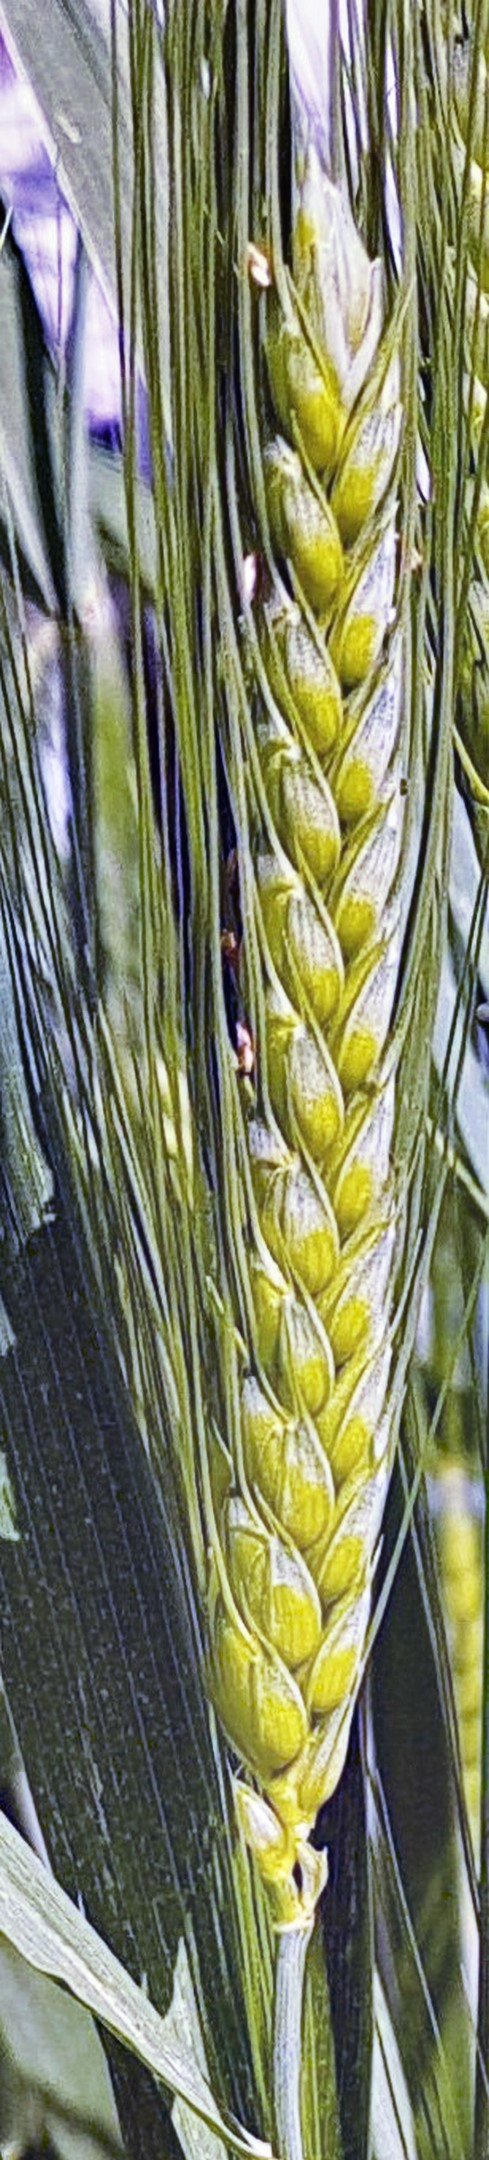Healthy Wheat: (147, 182, 433, 1842)
